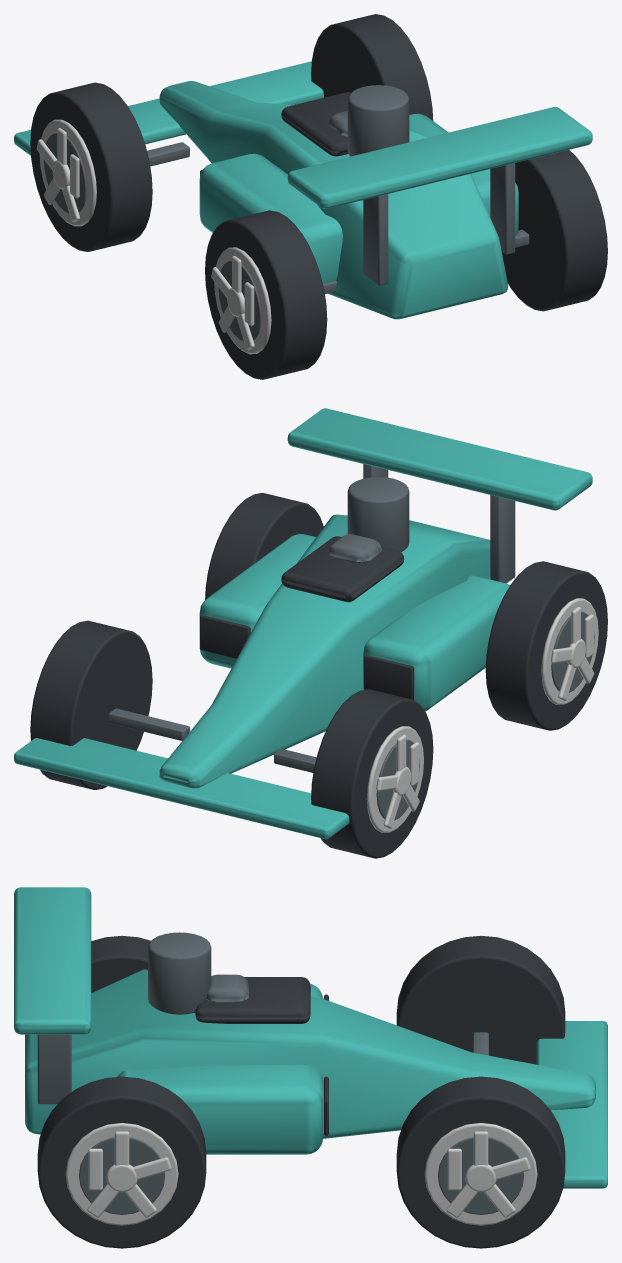
The model's file is formula_car.glb.
3 renders of one model, top to bottom at view 1: azimuth 30°, elevation 25°; view 2: azimuth 150°, elevation 25°; view 3: azimuth 270°, elevation 25°, orthographic. The views are drawn at different scales.
Parts seen in each view (by area): view 1: Body, Tyre.003, Tyre.001, Tyre, Tyre.002, AlloyRim, AlloyRim.001, DarkInset.001, DarkInset; view 2: Body, Tyre.002, Tyre.001, Tyre, Tyre.003, AlloyRim, AlloyRim.001, DarkInset.001, DarkInset; view 3: Body, Tyre, Tyre.002, Tyre.003, AlloyRim.002, AlloyRim.003, DarkInset.003, DarkInset.002, Tyre.001, Hub.002, Hub.003, Spoke.014 (+9 smaller).
Boxes of the visible parts, x1,y1,x2,y2 form: Body: (14, 61, 592, 319); Tyre.003: (502, 150, 607, 311); Tyre.001: (205, 210, 327, 379); Tyre: (30, 82, 152, 251); Tyre.002: (311, 14, 433, 120); AlloyRim: (39, 119, 96, 226); AlloyRim.001: (214, 247, 271, 354); DarkInset.001: (218, 260, 261, 341); DarkInset: (43, 133, 86, 213); Body: (14, 408, 592, 839); Tyre.002: (30, 620, 152, 789); Tyre.001: (485, 561, 607, 730); Tyre: (311, 689, 433, 858); Tyre.003: (205, 493, 323, 599); AlloyRim: (366, 726, 423, 832); AlloyRim.001: (541, 598, 598, 704); DarkInset.001: (551, 611, 594, 692); DarkInset: (376, 739, 419, 820); Body: (14, 887, 607, 1188); Tyre: (396, 935, 565, 1064); Tyre.002: (396, 1076, 565, 1248); Tyre.003: (37, 1076, 206, 1248); AlloyRim.002: (424, 1123, 537, 1225); AlloyRim.003: (65, 1123, 178, 1225); DarkInset.003: (79, 1137, 165, 1214); DarkInset.002: (438, 1137, 524, 1214); Tyre.001: (91, 935, 150, 992); Hub.002: (465, 1164, 496, 1192); Hub.003: (106, 1164, 137, 1192); Spoke.014: (447, 1148, 461, 1190).
Size of the model in its own units: 2.07 by 1.25 by 2.99.
